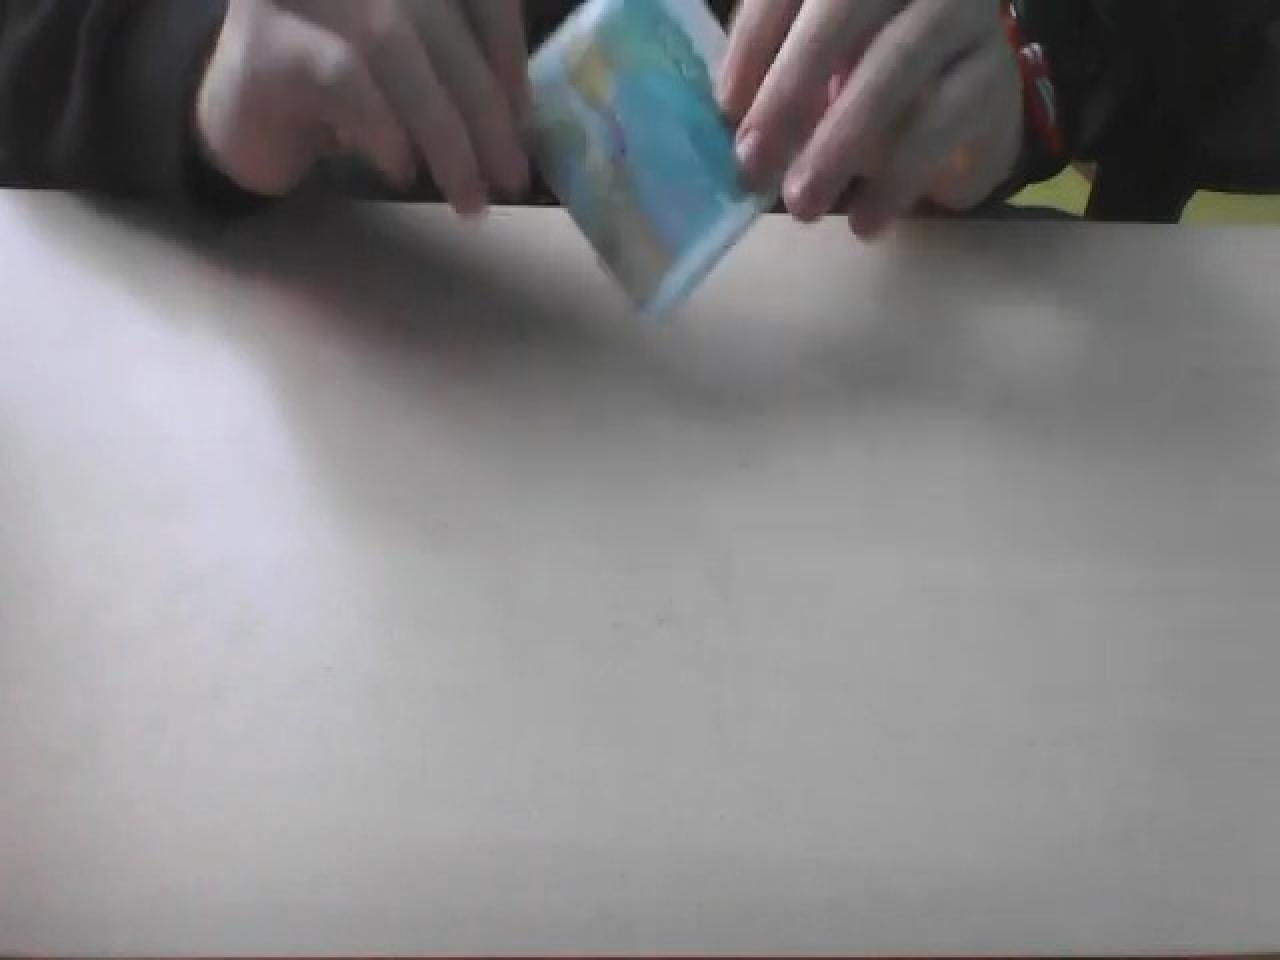100leva: (518, 0, 782, 325)
